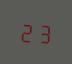three: (35, 19, 50, 44)
two: (19, 19, 34, 43)
